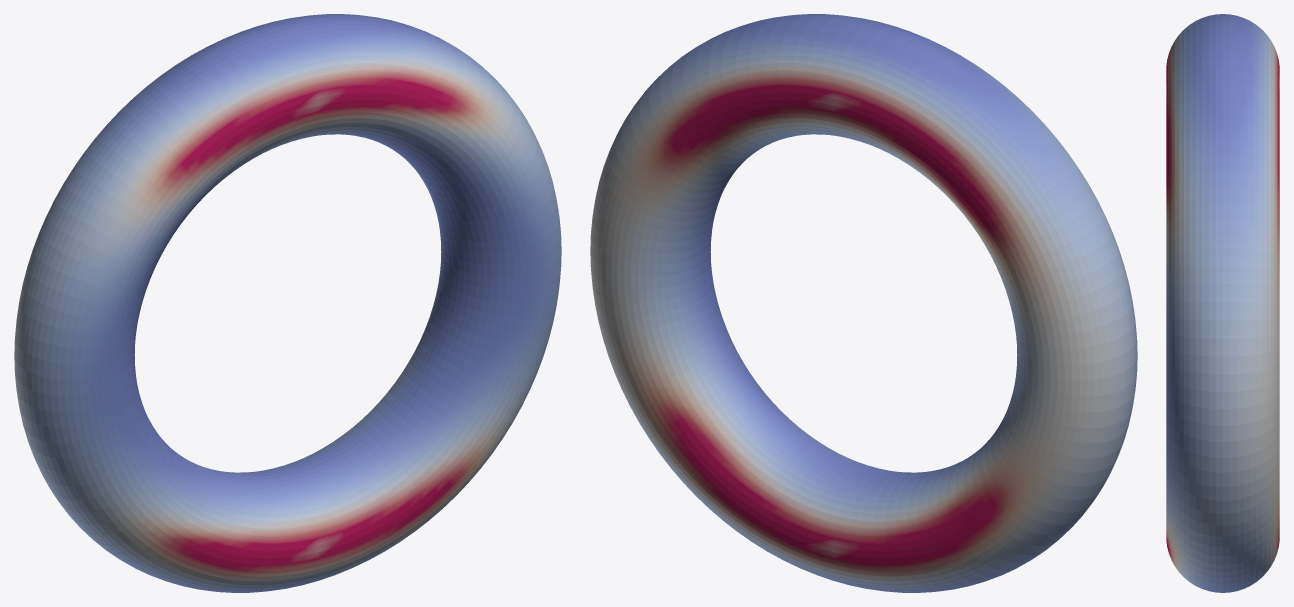
3 views of the same model, side by side, from view 1: azimuth 30°, elevation 25°; view 2: azimuth 150°, elevation 25°; view 3: azimuth 270°, elevation 25° (orthographic). The views are drawn at different scales.
Visible parts, largest first — view 1: world; view 2: world; view 3: world.
Boxes of the visible parts, bbox=[...] form: world: bbox=[14, 14, 561, 592]; world: bbox=[590, 14, 1137, 592]; world: bbox=[1166, 14, 1279, 592].
Bounding box in the file's own units: 22.4 × 22.4 × 4.39.
